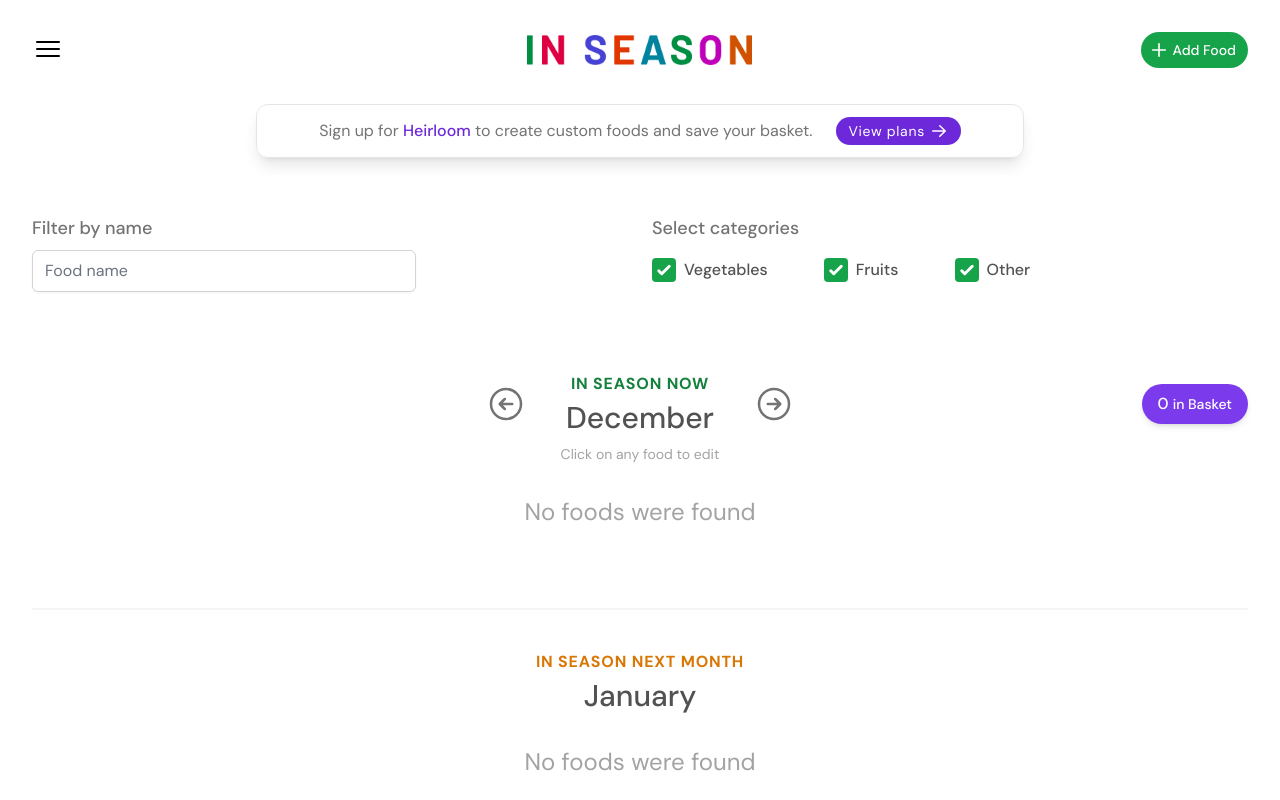
Test case: app pages can be opened › basket can be opened
The width and height of the screenshot is (1280, 800).
Click the link with id "basketIcon": (1195,404) x1=1142 y1=384 x2=1248 y2=424
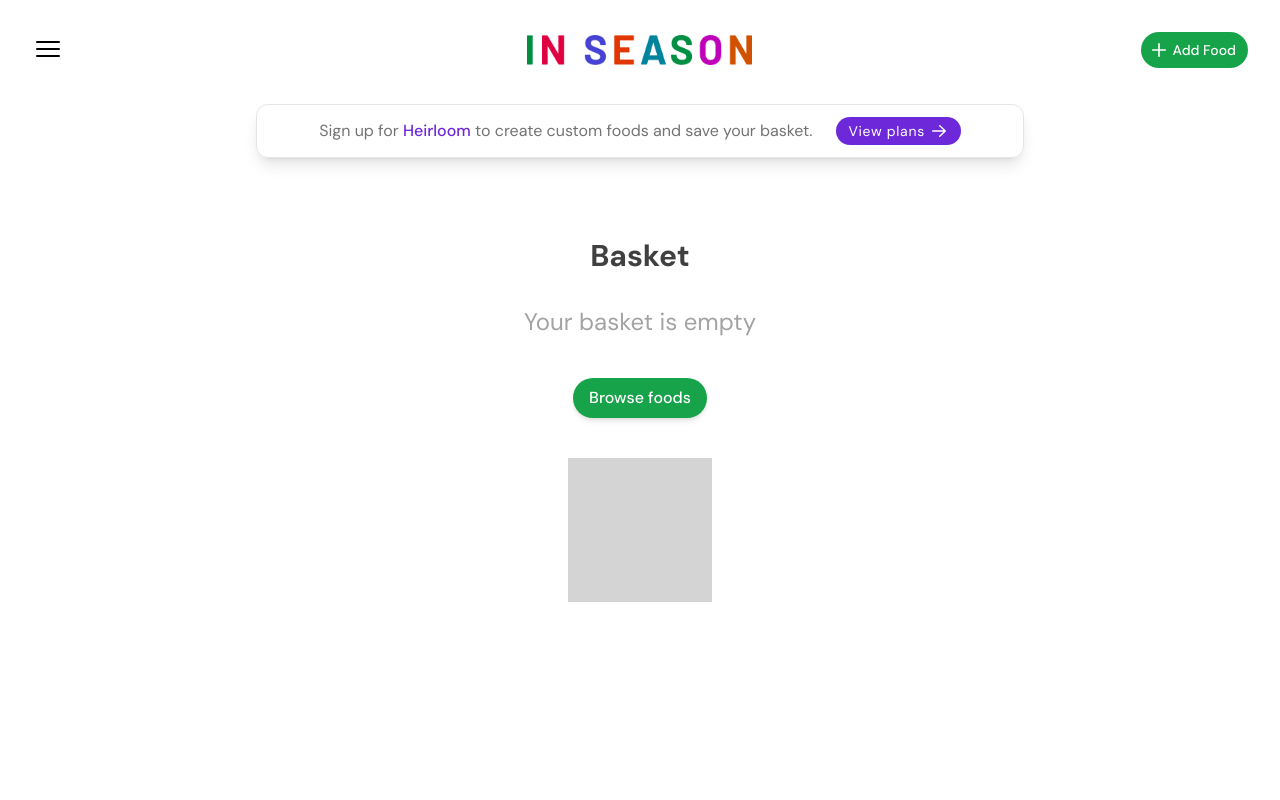
Now the heading "Basket" is shown, box x1=590 y1=238 x2=690 y2=274
